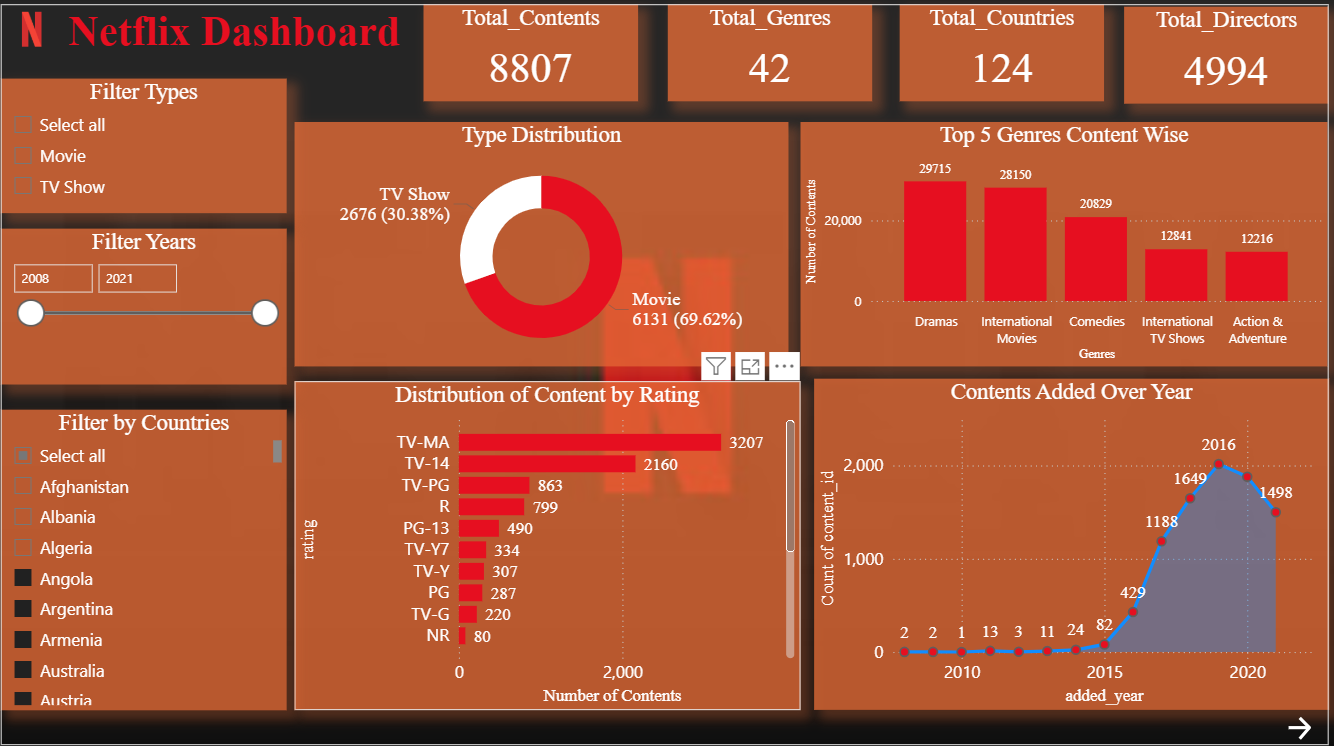

The dashboard page shown, as its layout file describes it:
{"tool":"powerbi","page":{"name":"Visuals","canvas":[1280,720],"ordinal":0},"visuals":[{"type":"group","id":"g1","title":"Group 1","box":[10.8,8.1,384.3,52.8],"z":0,"group":"g5"},{"type":"textbox","title":"Netflix Dashboard","box":[64.9,8.1,330.2,52.8],"z":0,"group":"g1"},{"type":"slicer","title":"Filter Types","fields":{"Values":["CleanedData.type"]},"box":[8.6,76.1,271.2,127.1],"z":0,"group":"g4"},{"type":"donutChart","title":"Type Distribution","fields":{"Category":["CleanedData.type"],"Y":["CountNonNull(CleanedData.content_id)"]},"box":[286.5,117.5,467.4,231.5],"z":0,"group":"g3"},{"type":"group","id":"g2","title":"Group 2","box":[408.7,5.9,857.3,94],"z":1000,"group":"g5"},{"type":"card","title":"Total_Contents","fields":{"Values":["Measure table for clean data.Total_Contents"]},"box":[408.7,5.9,203.2,91.6],"z":1000,"group":"g2"},{"type":"image","box":[10.8,8.1,54.1,43.3],"z":1000,"group":"g1"},{"type":"columnChart","title":"Top 5 Genres Content Wise","fields":{"Category":["Dim_Genres.genre"],"Y":["CountNonNull(Fact_Contents.content_id)"]},"box":[765.7,117.5,499.1,231.5],"z":1000,"group":"g3"},{"type":"slicer","title":"Filter by Countries","fields":{"Values":["Dim_Titles.country"]},"box":[8.6,389.8,271.2,285.1],"z":1000,"group":"g4"},{"type":"card","title":"Total_Genres","fields":{"Values":["Measure table for clean data.Total_Genres"]},"box":[640.1,5.9,193.8,91.6],"z":2000,"group":"g2"},{"type":"group","id":"g3","title":"Group 3","box":[286.5,117.5,979.3,556.9],"z":2000,"group":"g5"},{"type":"slicer","title":"Filter Years","fields":{"Values":["CleanedData.added_year"]},"box":[8.6,218.1,271.2,147.7],"z":2000,"group":"g4"},{"type":"barChart","title":"Distribution of Content by Rating","fields":{"Category":["CleanedData.rating"],"Y":["CountNonNull(CleanedData.content_id)"]},"box":[287.1,363.2,478.8,311.2],"z":2000,"group":"g3"},{"type":"card","title":"Total_Countries","fields":{"Values":["Measure table for clean data.Total_Countries"]},"box":[859.7,5.9,193.8,91.6],"z":3000,"group":"g2"},{"type":"group","id":"g4","title":"Group 4","box":[8.6,76.1,271.2,598.8],"z":3000,"group":"g5"},{"type":"lineChart","title":"Contents Added Over Year","fields":{"Category":["CleanedData.added_year"],"Y":["CountNonNull(CleanedData.content_id)"]},"box":[778.3,360.7,487.5,313.8],"z":3000,"group":"g3"},{"type":"group","id":"g5","title":"Group 5","box":[8.6,5.9,1257.4,701.1],"z":3002},{"type":"card","title":"Total_Directors","fields":{"Values":["Measure table for clean data.Total_Directors"]},"box":[1072.2,8.2,193.8,91.6],"z":4000,"group":"g2"},{"type":"actionButton","box":[1222.5,676.5,42.3,30.5],"z":4000,"group":"g5"}]}

Visuals, with their boxes in screenshot pixels (x1, y1, x2, y2), scaled from the page's 1280x720 canvas onto the 1334x746 screenshot:
"Group 1" group: detection(11, 8, 412, 63)
"Netflix Dashboard" textbox: detection(68, 8, 412, 63)
"Filter Types" slicer: detection(9, 79, 292, 211)
"Type Distribution" donutChart: detection(299, 122, 786, 362)
"Group 2" group: detection(426, 6, 1319, 104)
"Total_Contents" card: detection(426, 6, 638, 101)
image: detection(11, 8, 68, 53)
"Top 5 Genres Content Wise" columnChart: detection(798, 122, 1318, 362)
"Filter by Countries" slicer: detection(9, 404, 292, 699)
"Total_Genres" card: detection(667, 6, 869, 101)
"Group 3" group: detection(299, 122, 1319, 699)
"Filter Years" slicer: detection(9, 226, 292, 379)
"Distribution of Content by Rating" barChart: detection(299, 376, 798, 699)
"Total_Countries" card: detection(896, 6, 1098, 101)
"Group 4" group: detection(9, 79, 292, 699)
"Contents Added Over Year" lineChart: detection(811, 374, 1319, 699)
"Group 5" group: detection(9, 6, 1319, 733)
"Total_Directors" card: detection(1117, 8, 1319, 103)
actionButton: detection(1274, 701, 1318, 733)
